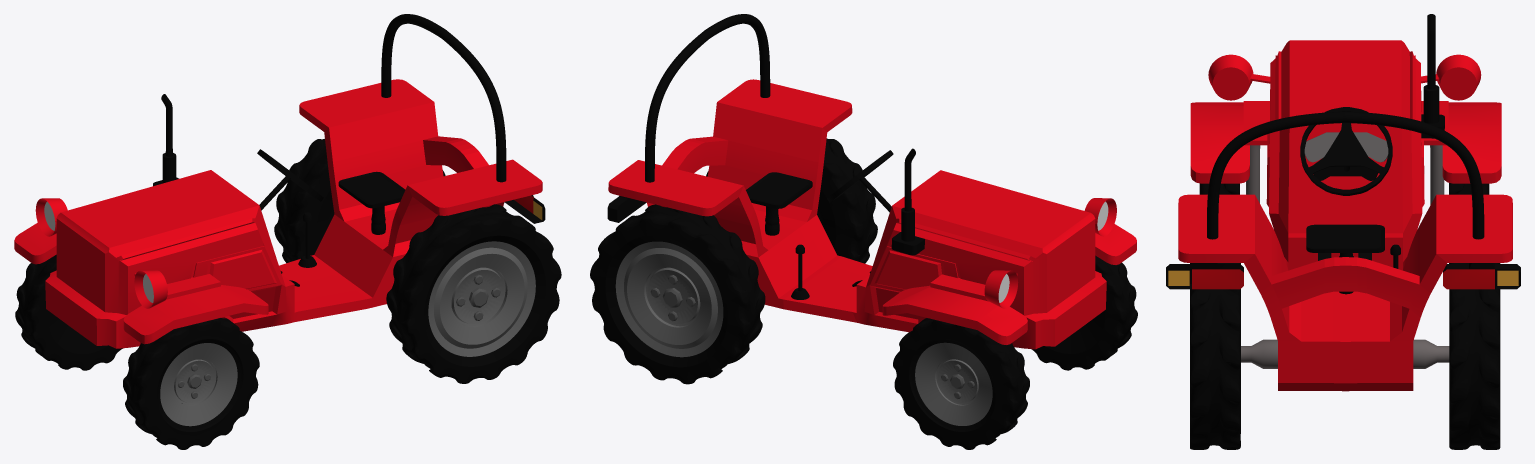
Rendered from tractor_free.glb.
3 renders of one model, left to right at view 1: azimuth 30°, elevation 25°; view 2: azimuth 150°, elevation 25°; view 3: azimuth 270°, elevation 25°, orthographic. The views are drawn at different scales.
Parts seen in each view (by area): view 1: Tractor, tire01, tire1, tire1.001, tire01.001, NurbsPath.002, Cube.001, Cube.006, Cube.010, Cylinder.008, Cylinder.002; view 2: Tractor, tire01.001, tire1.001, tire01, tire1, NurbsPath.002, Cube.001, Cube.006, Cube.010, Cylinder.010, Cylinder.002; view 3: Tractor, tire01.001, tire01, NurbsPath.002, Cube.010, Cylinder.002, Cube.001, Cylinder.012, Cube.006, Cube.003, Cylinder.001, Cube.004 (+3 smaller).
Boxes of the visible parts, x1,y1,x2,y2 form: Tractor: (14,79,542,348); tire01: (386,204,561,383); tire1: (123,318,259,449); tire1.001: (15,254,122,370); tire01.001: (274,138,445,263); NurbsPath.002: (381,14,506,182); Cube.001: (338,171,405,234); Cube.006: (153,94,178,186); Cube.010: (504,195,545,223); Cylinder.008: (456,274,500,320); Cylinder.002: (257,149,323,201); Tractor: (608,79,1136,349); tire01.001: (590,204,765,384); tire1.001: (893,318,1029,449); tire01: (706,138,877,263); tire1: (1031,255,1137,370); NurbsPath.002: (645,14,770,182); Cube.001: (746,172,812,235); Cube.006: (891,148,924,255); Cube.010: (607,195,646,222); Cylinder.010: (650,275,695,321); Cylinder.002: (827,150,893,202); Tractor: (1178,40,1512,391); tire01.001: (1449,263,1500,449); tire01: (1190,263,1240,449); NurbsPath.002: (1207,111,1484,239); Cube.010: (1166,263,1520,289); Cylinder.002: (1300,107,1392,195); Cube.001: (1306,224,1384,294); Cylinder.012: (1241,339,1449,368); Cube.006: (1421,14,1444,138); Cube.003: (1304,132,1388,162); Cylinder.001: (1430,145,1444,204); Cube.004: (1313,166,1378,180).
Size of the model in its own units: 4.67 by 3.13 by 2.93.
